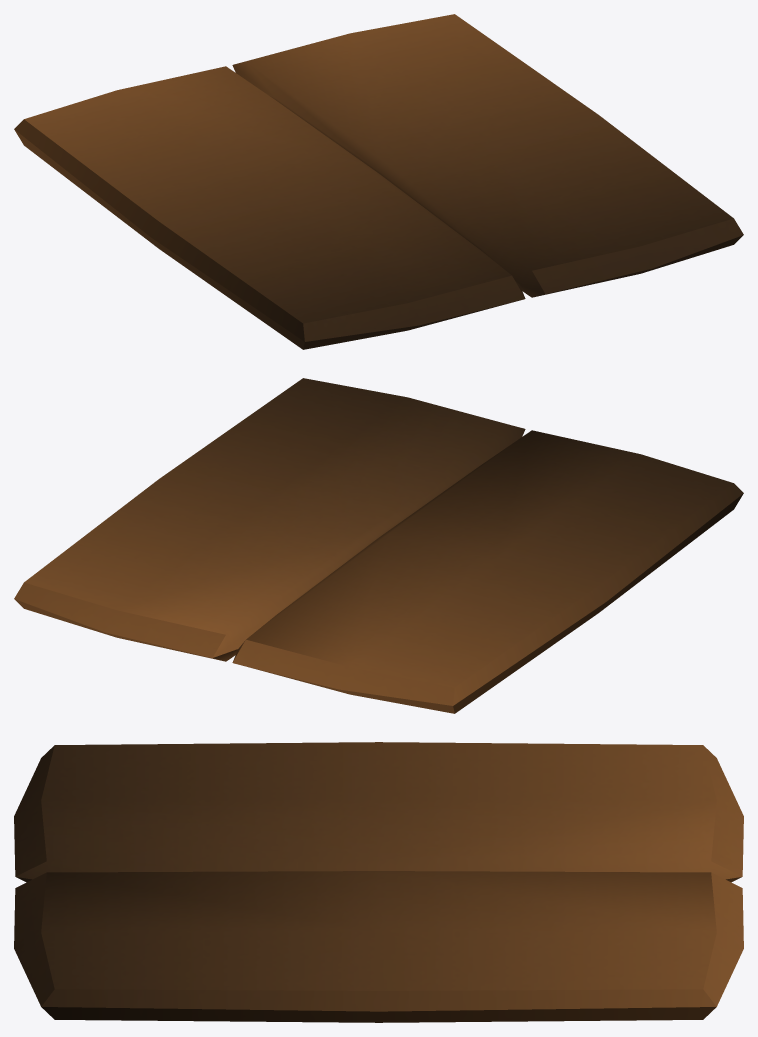
Rendered from LockedGate.fbx.
3 renders of one model, top to bottom at view 1: azimuth 30°, elevation 25°; view 2: azimuth 150°, elevation 25°; view 3: azimuth 270°, elevation 25°, orthographic. The views are drawn at different scales.
Visible parts, largest first — view 1: GateLocked.001; view 2: GateLocked.001; view 3: GateLocked.001.
Boxes of the visible parts, box(x1,y1,x2,y2) form: GateLocked.001: box(14, 14, 743, 349); GateLocked.001: box(14, 378, 743, 713); GateLocked.001: box(14, 742, 743, 1022).
Bounding box in the file's own units: 603 × 53.09 × 721.
